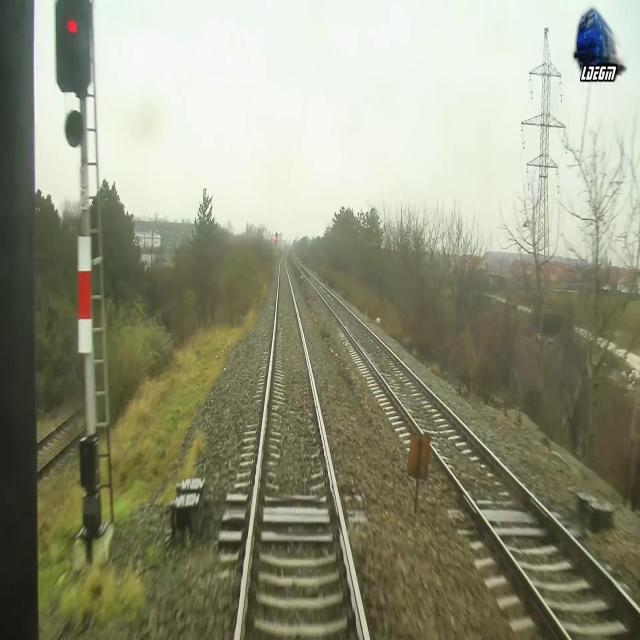rail-track: (297, 261, 638, 639), (240, 256, 365, 639)
